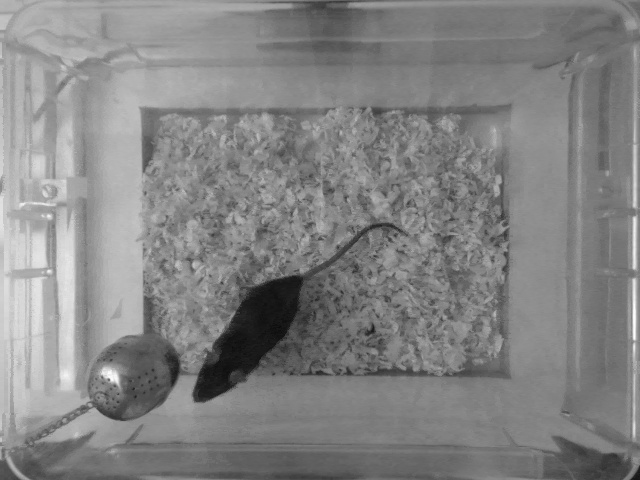mice: (191, 220, 413, 409)
